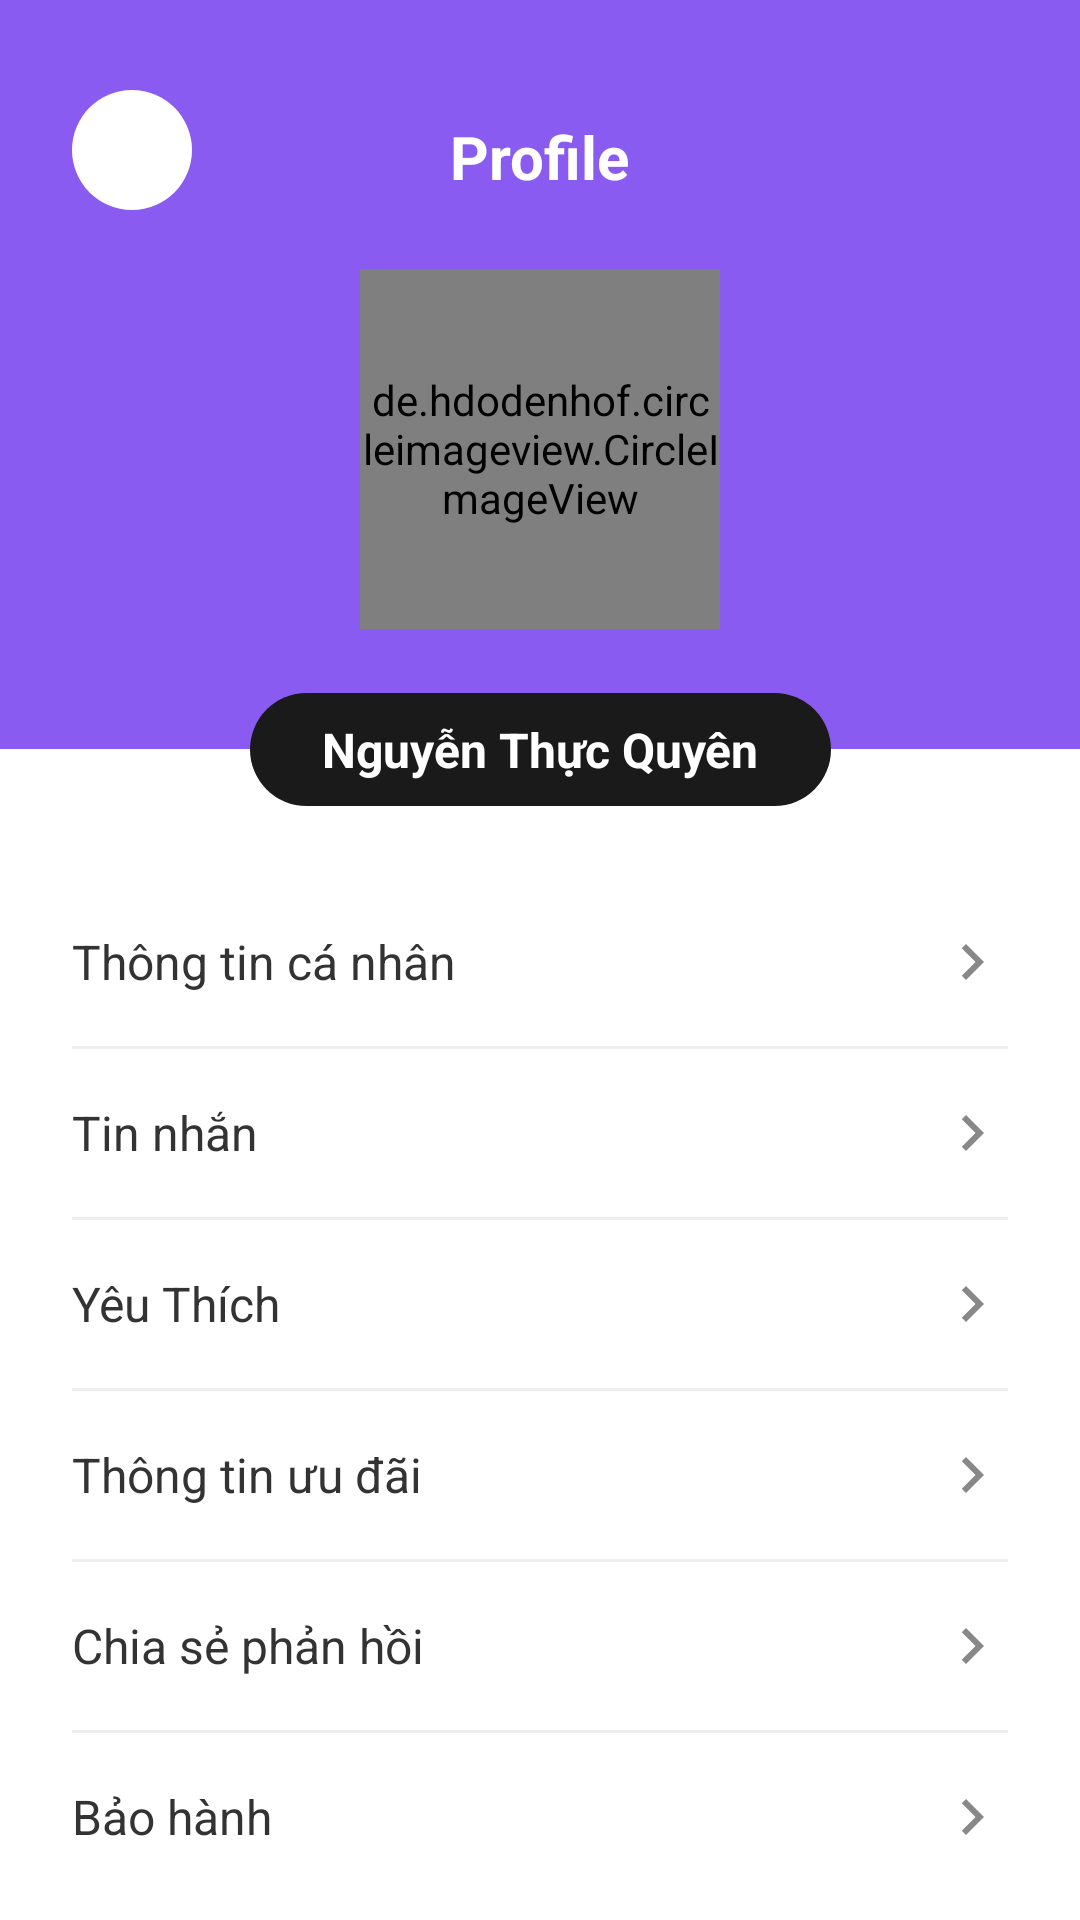

Icons on this 1080 × 1920 Android screen, each with the point to tap as [x,y]:
chevron right: [973,962], [973,1133], [973,1304], [973,1475], [973,1646], [973,1817]
